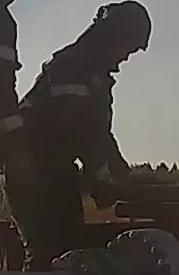gloves: (78, 161, 118, 210), (107, 153, 134, 194)
vest: (16, 55, 113, 223)
